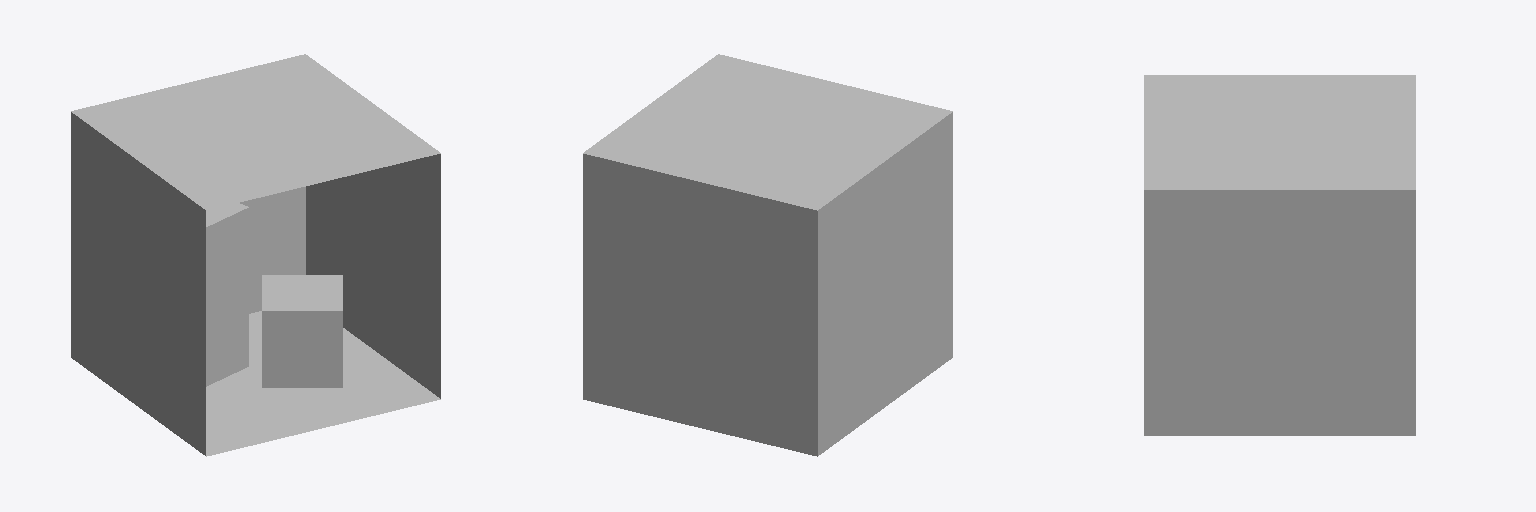
File: staircase.obj
3 renders of one model, left to right at view 1: azimuth 30°, elevation 25°; view 2: azimuth 150°, elevation 25°; view 3: azimuth 270°, elevation 25°, orthographic.
Bounding box in the file's own units: 100 × 100 × 100.